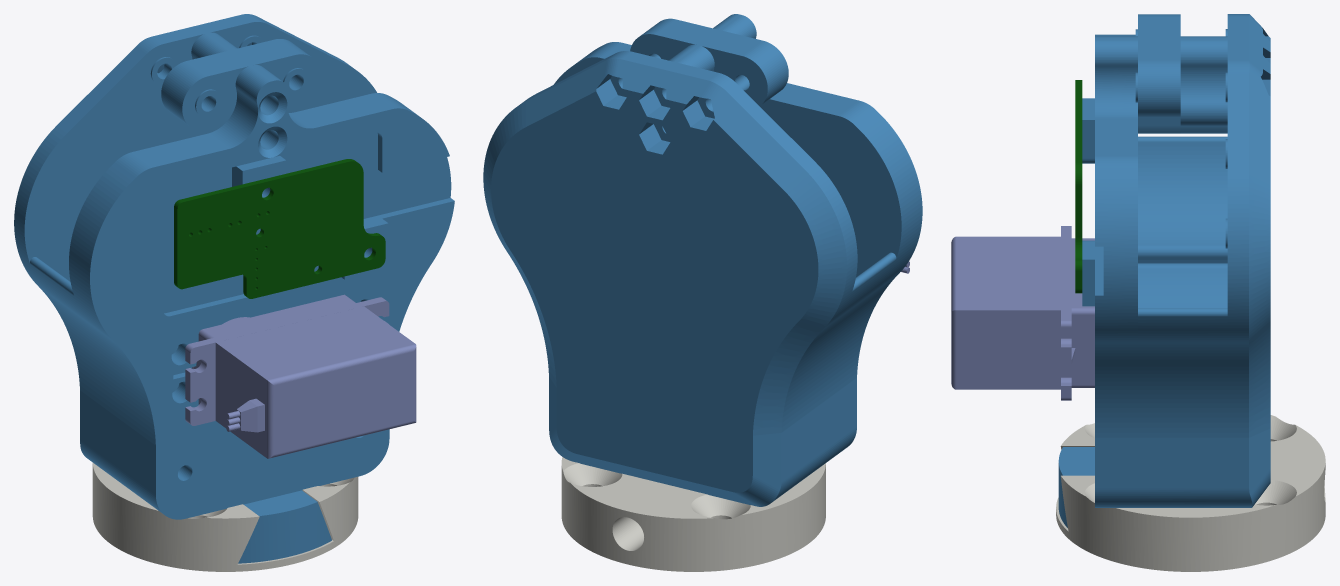
3 views of the same model, side by side, from view 1: azimuth 30°, elevation 25°; view 2: azimuth 150°, elevation 25°; view 3: azimuth 270°, elevation 25° (orthographic).
Visible parts, largest first — view 1: node; view 2: node; view 3: node.
Part boxes in pixels (bbox=[...]): node: bbox=[14, 14, 454, 571]; node: bbox=[483, 14, 922, 571]; node: bbox=[951, 14, 1325, 571].
Size of the model in its own units: 100 by 123 by 87.48.
